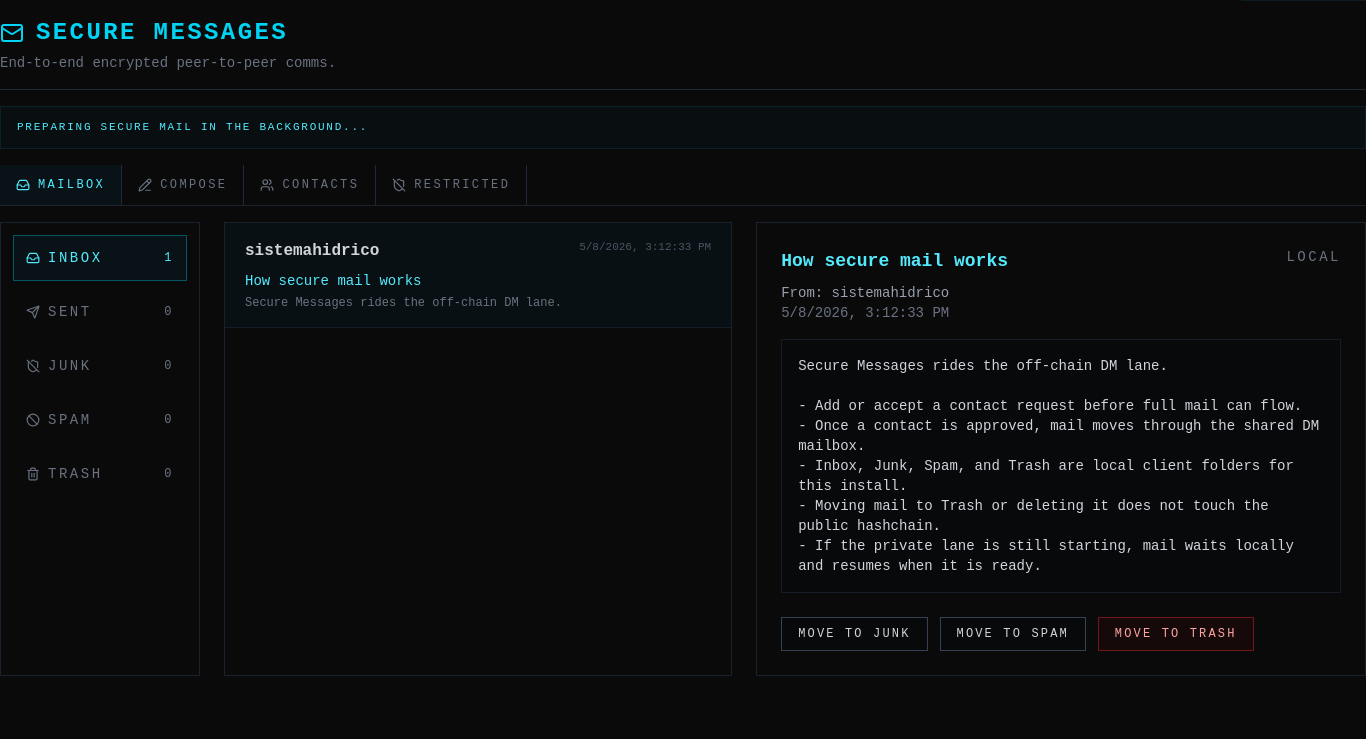
MessagesView first-contact trust UX › warms the private lane in the background before sending secure mail
Click the button "COMPOSE" at (183, 184), box [122,164,244,204]
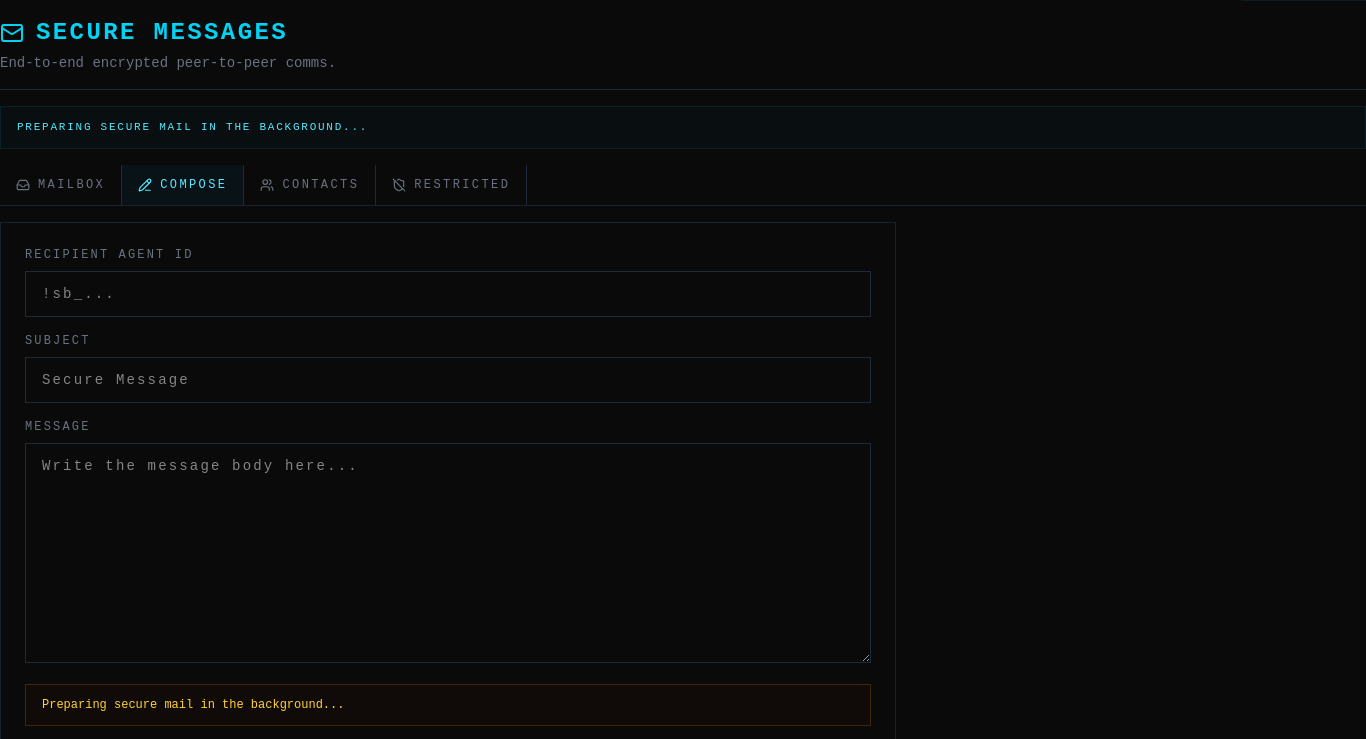
Type "!sb_pinned" into the field labelled "Recipient agent ID" at (448, 294), box [25,270,871,316]
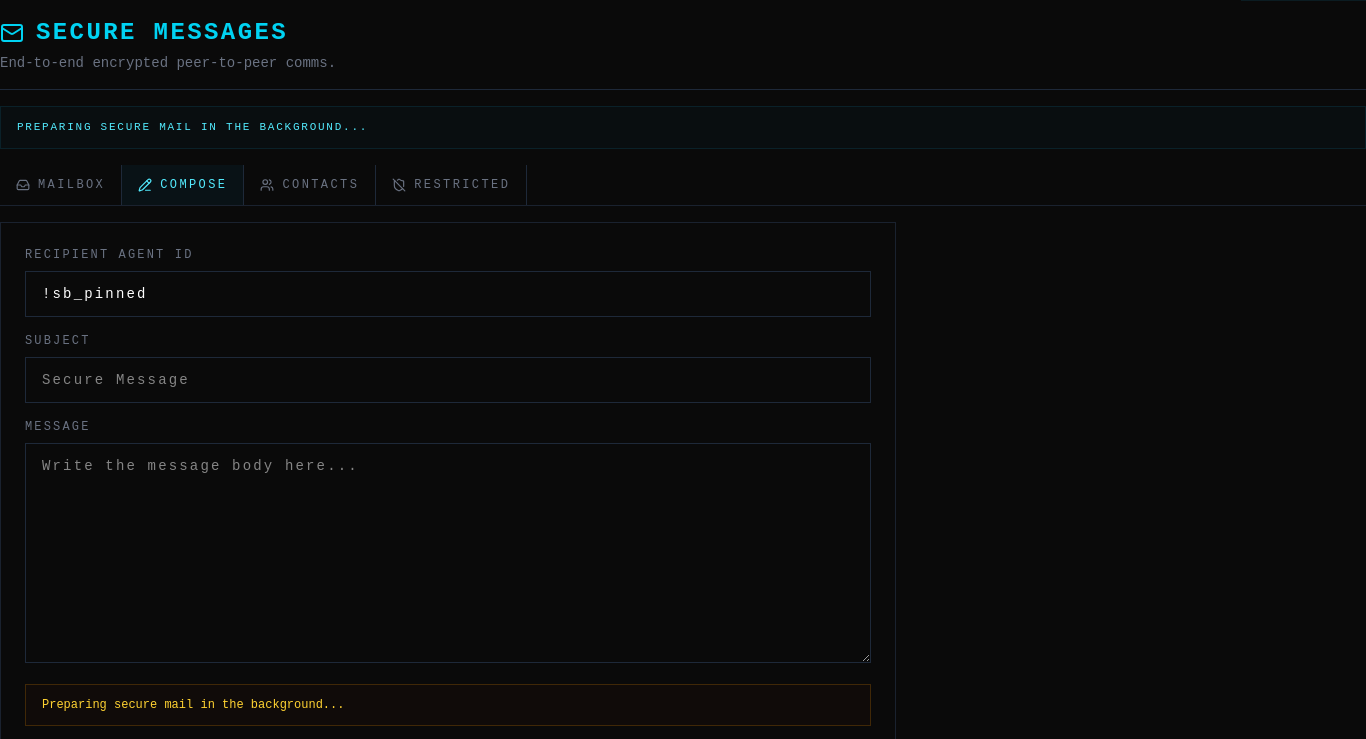
Type "hello after warmup" into the text box labelled "Message" at (448, 552), box [25,442,871,662]
(page scrolled)
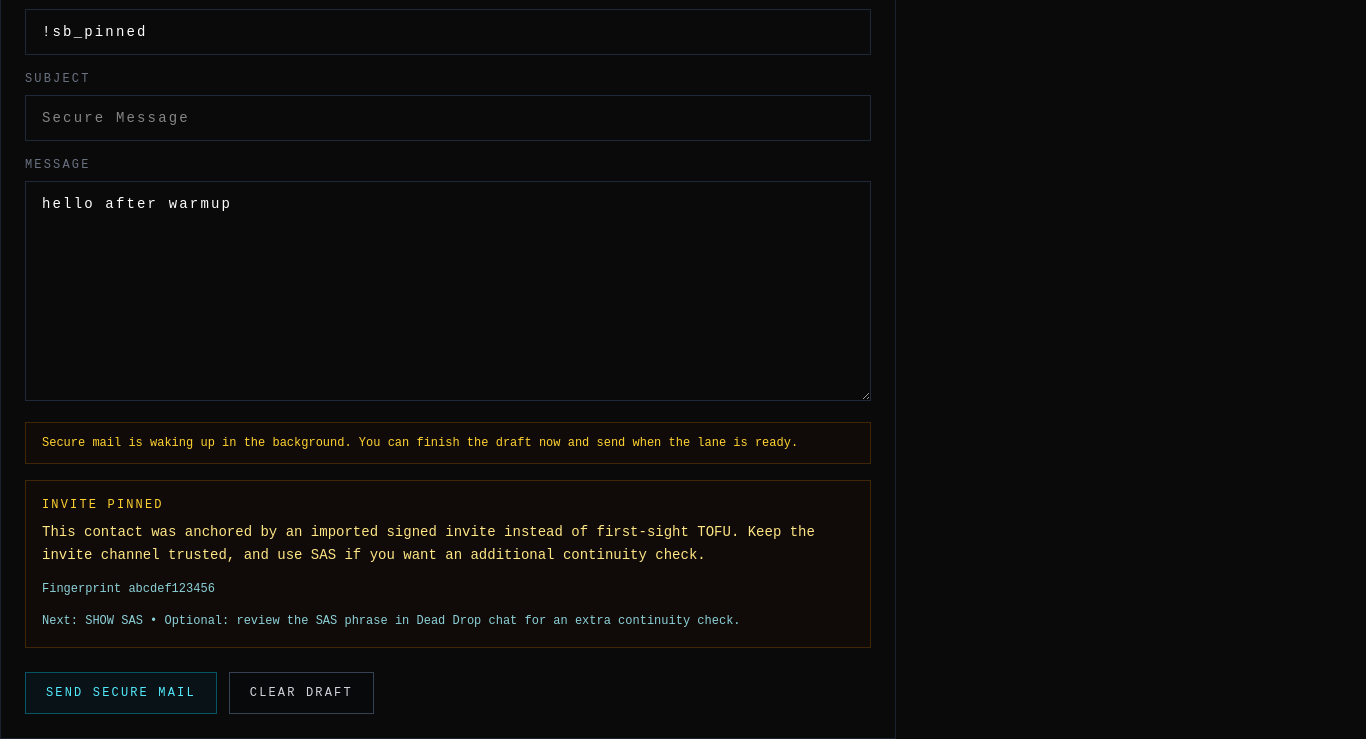
expect the button "Send Secure Mail" is enabled: met
Click the button "Send Secure Mail" at (121, 694), box [25,672,217,714]
(page scrolled)
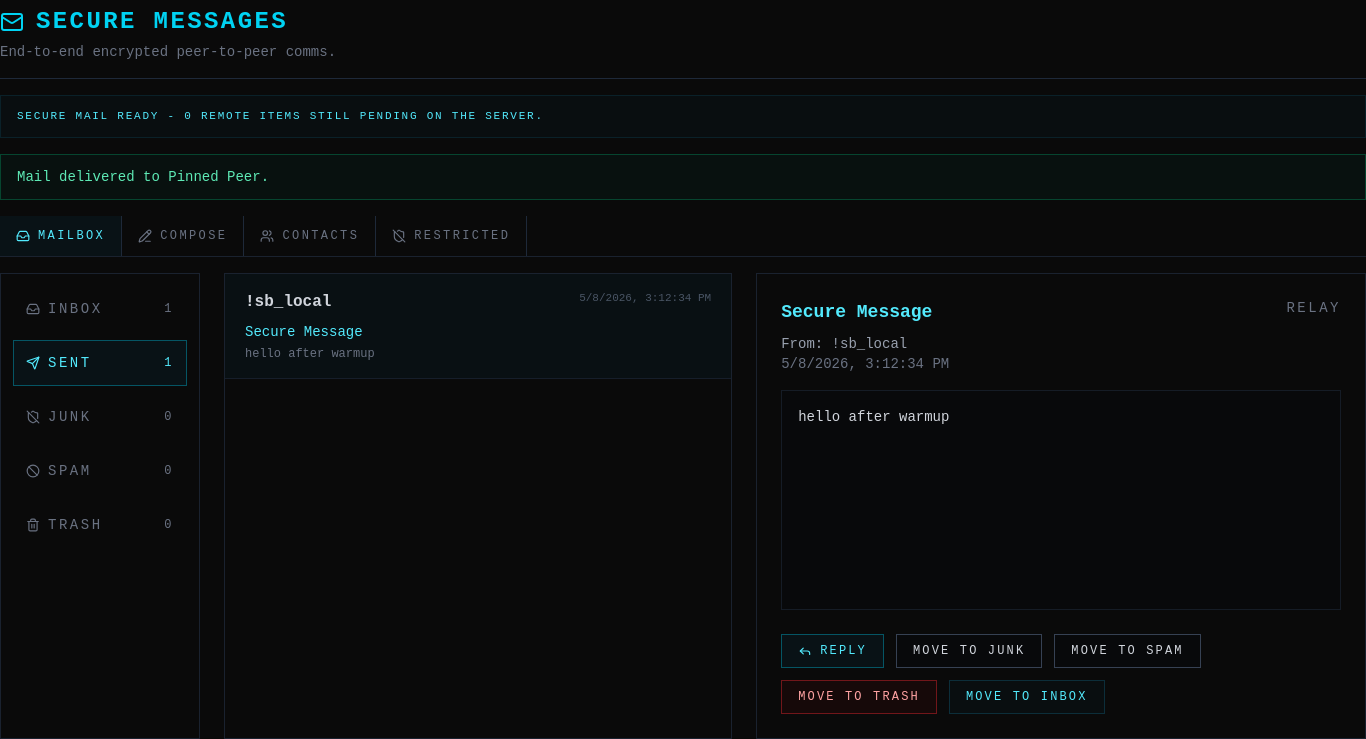
expect the text "Mail delivered to Pinned Peer." is shown: met, box [0,154,1365,200]
